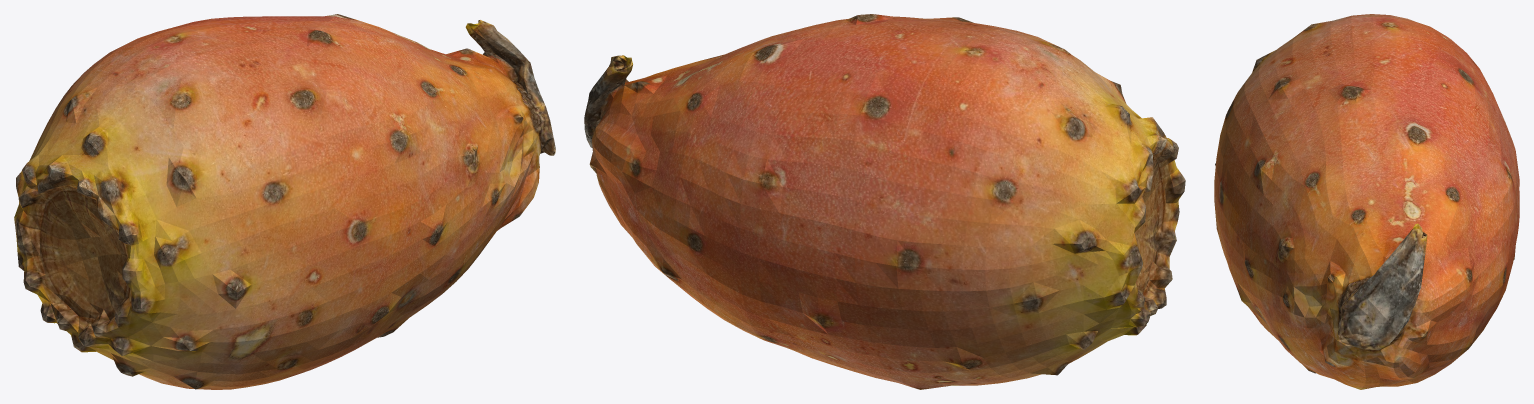
Rendered from Cactus_Fig_04.glb.
The picture shows the model from 3 angles, left to right: view 1: azimuth 30°, elevation 25°; view 2: azimuth 150°, elevation 25°; view 3: azimuth 270°, elevation 25°; orthographic projection. The views are drawn at different scales.
Parts seen in each view (by area): view 1: Cactus_Fig_04; view 2: Cactus_Fig_04; view 3: Cactus_Fig_04.
Part boxes in pixels (left/top/right/bottom): Cactus_Fig_04: left=14, top=14, right=555, bottom=389; Cactus_Fig_04: left=584, top=14, right=1185, bottom=389; Cactus_Fig_04: left=1214, top=14, right=1519, bottom=389.
Size of the model in its own units: 8.85 by 5.33 by 5.01.
1 material, 1 textured.
